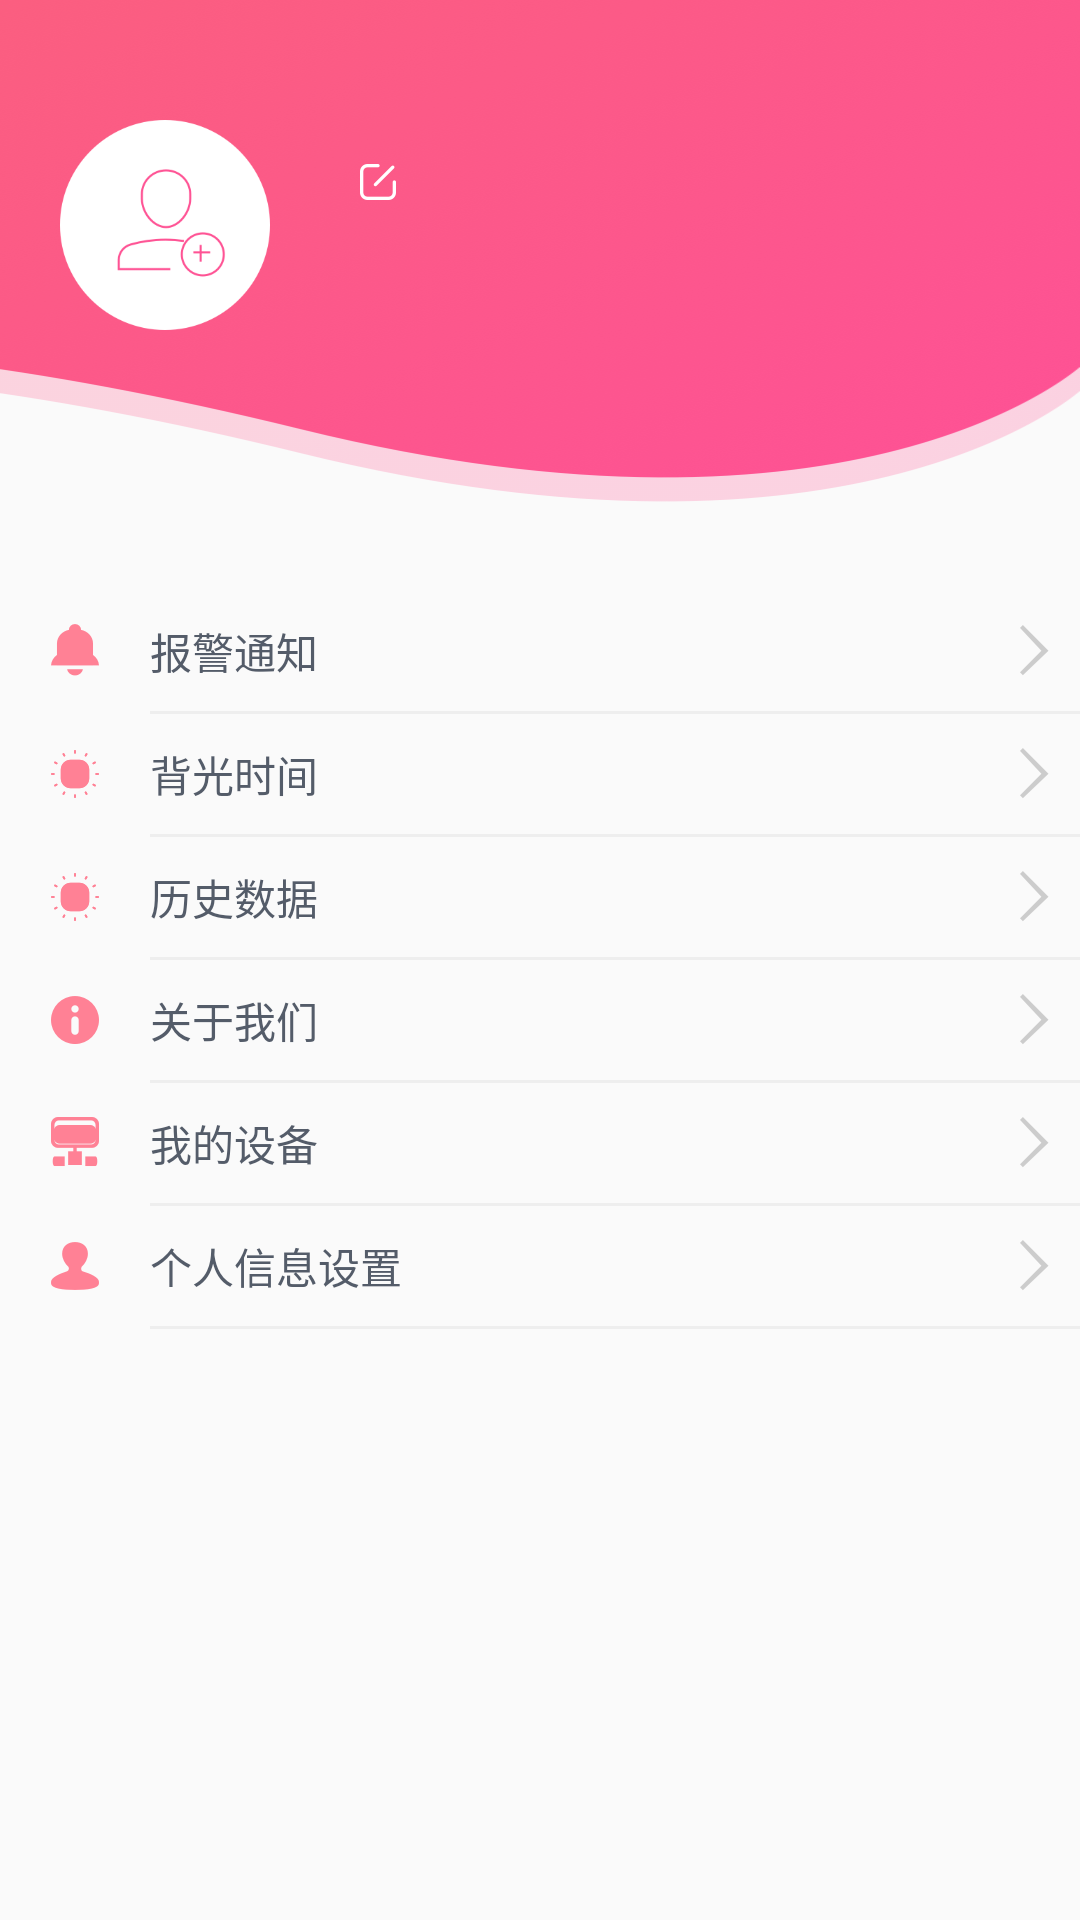

Icons on this 1080px×1920px Android screen, each with its box as (x1, y1, x2, y2):
about: (51, 996, 99, 1044)
alert: (51, 624, 99, 676)
device: (51, 1117, 99, 1166)
head: (60, 120, 270, 330)
item arrow: (1020, 625, 1048, 675), (1020, 748, 1048, 798), (1020, 871, 1048, 921), (1020, 994, 1048, 1044), (1020, 1117, 1048, 1167), (1020, 1240, 1048, 1290)
